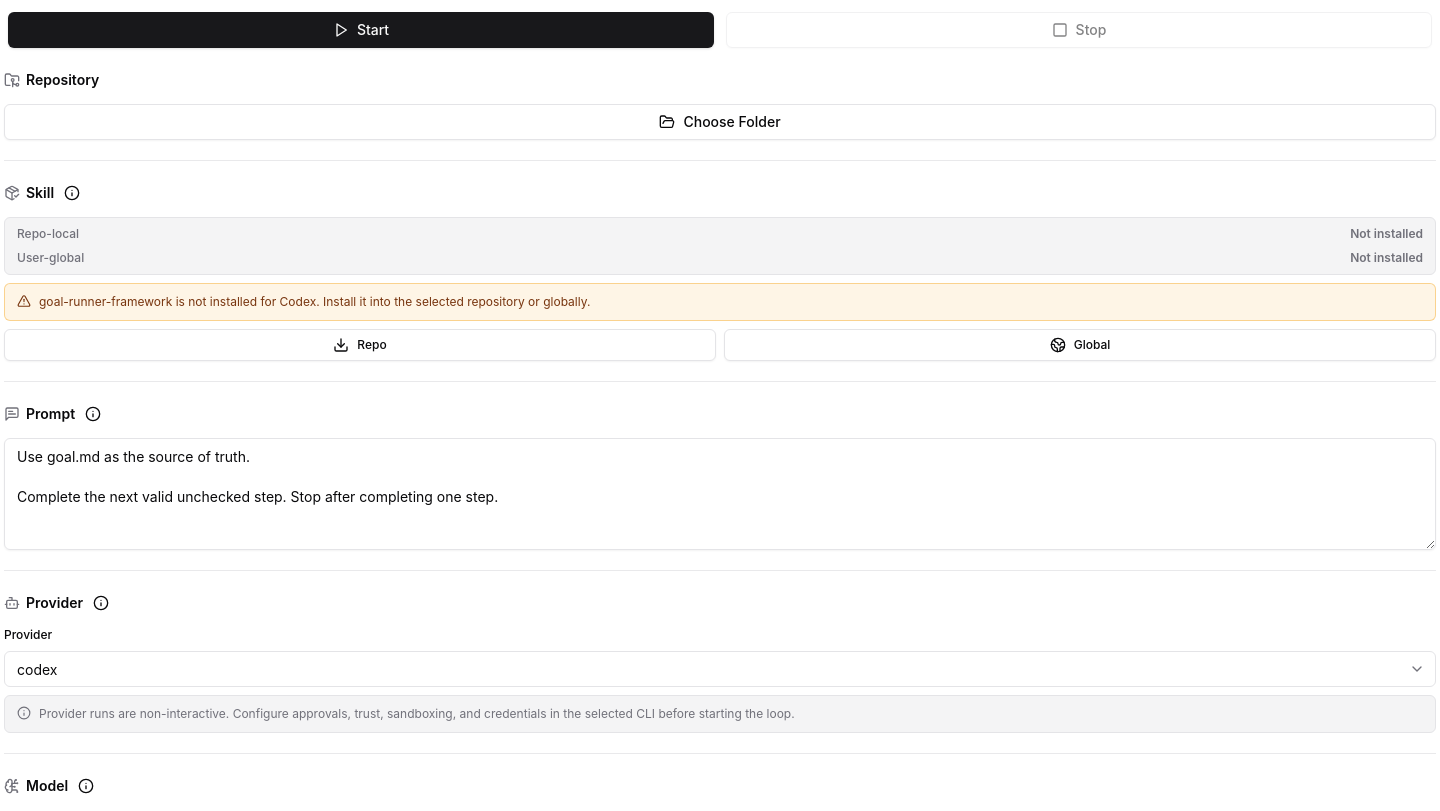
Test: ControlsPanel › shows repository browse validation errors
The width and height of the screenshot is (1440, 811).
Click the button "Choose Folder".
click(720, 122)  # box [4, 104, 1436, 140]
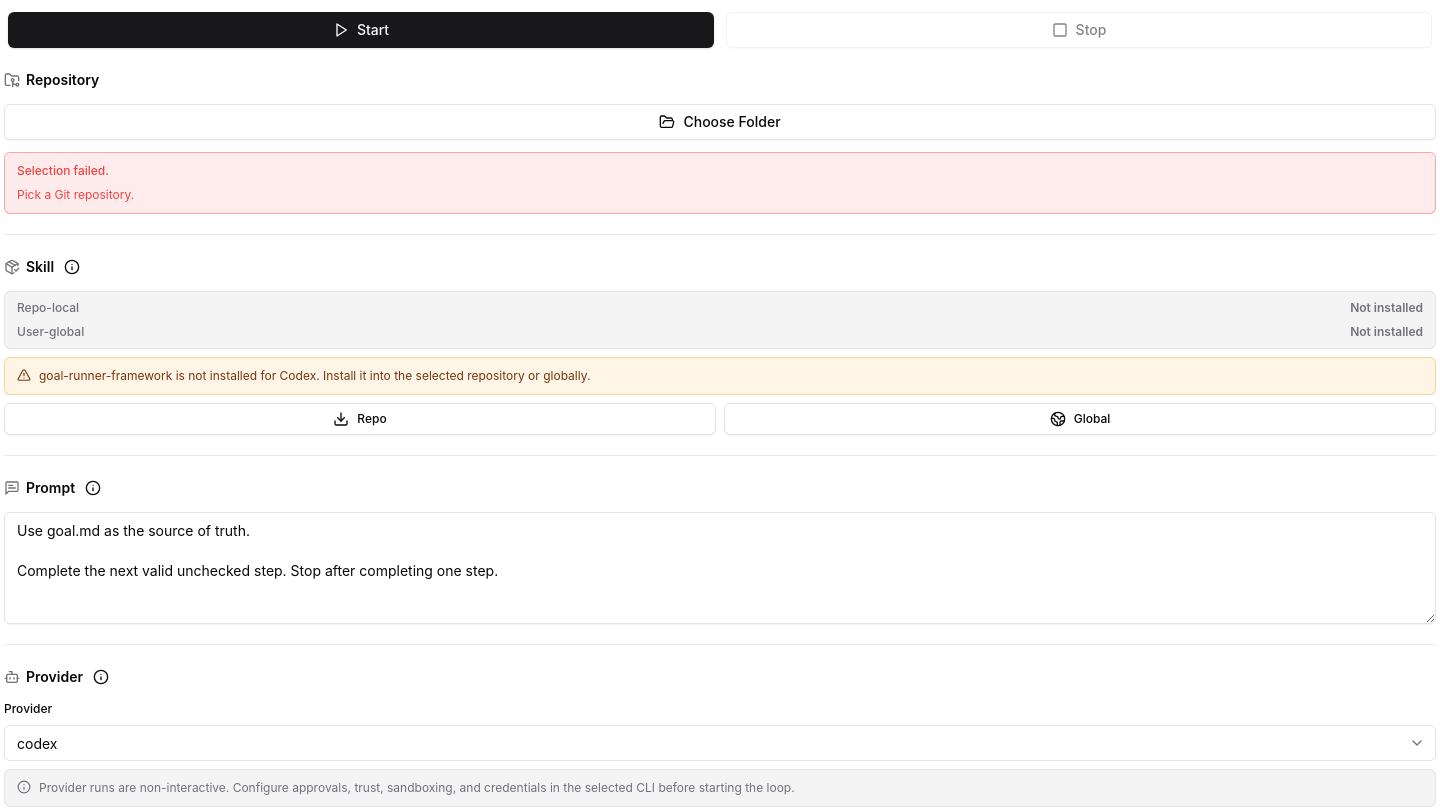
Check: the message "Selection failed. Pick a Git repository." is shown, box [4, 152, 1436, 214]
Check: the list item "Pick a Git repository." is shown, box [17, 187, 134, 202]
